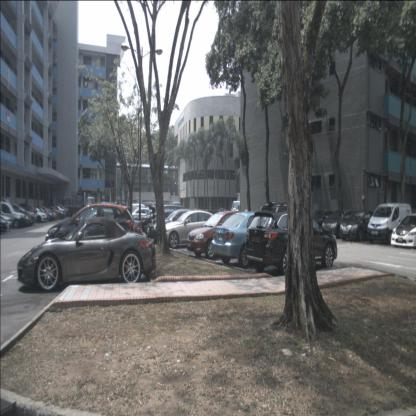vehicle-car: (17, 216, 156, 292), (244, 202, 338, 275), (45, 203, 134, 264), (211, 211, 283, 268), (186, 211, 254, 259), (162, 210, 225, 249), (149, 209, 205, 244), (367, 203, 412, 245), (339, 208, 379, 242), (142, 207, 182, 237), (150, 209, 194, 236), (322, 208, 360, 239), (391, 212, 415, 250), (0, 201, 32, 229), (0, 202, 37, 226), (306, 209, 339, 235), (129, 207, 157, 225), (21, 205, 49, 223), (34, 206, 58, 221), (29, 207, 54, 221), (41, 206, 64, 220), (48, 205, 66, 219), (129, 204, 149, 216), (51, 205, 69, 218)
vehicle-truck: (231, 192, 269, 225), (63, 192, 95, 216), (168, 195, 180, 216)
